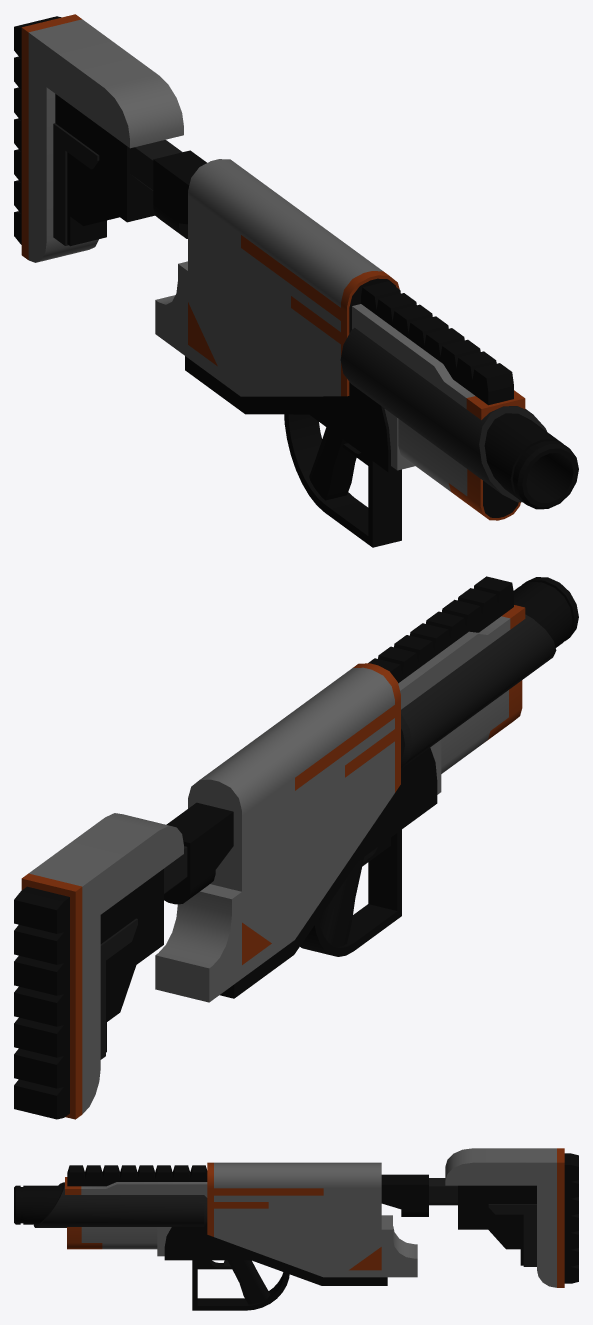
The model's file is Grenade_1.fbx.
The picture shows the model from 3 angles, top to bottom: view 1: azimuth 30°, elevation 25°; view 2: azimuth 150°, elevation 25°; view 3: azimuth 270°, elevation 25°; orthographic projection. The views are drawn at different scales.
Parts seen in each view (by area): view 1: Grenade_1; view 2: Grenade_1; view 3: Grenade_1.
Part boxes in pixels (x1,y1,x2,y2): Grenade_1: [14, 14, 578, 547]; Grenade_1: [14, 576, 578, 1119]; Grenade_1: [14, 1148, 578, 1310].
Size of the model in its own units: 0.1459 by 0.5339 by 1.81.
